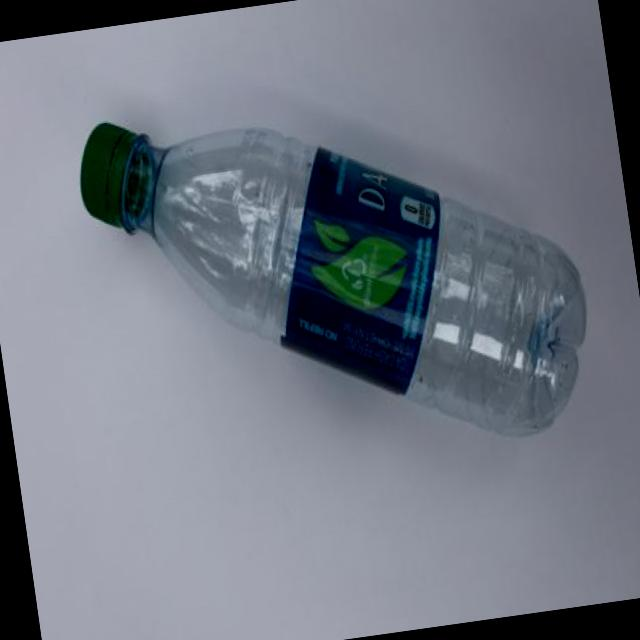Recycle: (71, 58, 604, 492)
